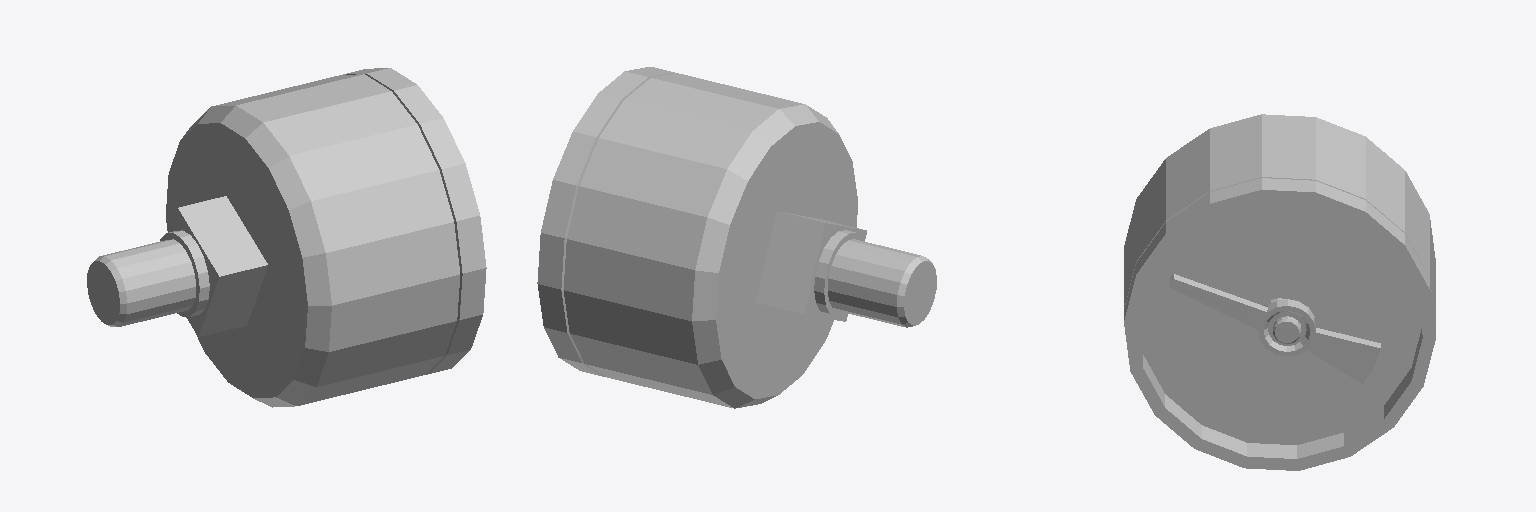
File: Watch_1.obj
3 views of the same model, side by side, from view 1: azimuth 30°, elevation 25°; view 2: azimuth 150°, elevation 25°; view 3: azimuth 270°, elevation 25° (orthographic).
Parts seen in each view (by area): view 1: Watch_Group61659; view 2: Watch_Group61659; view 3: Watch_Group61659, Watch_Group61660.
Part boxes in pixels (x1,y1,x2,y2): Watch_Group61659: (87, 68, 486, 407); Watch_Group61659: (537, 67, 936, 408); Watch_Group61659: (1124, 114, 1435, 470); Watch_Group61660: (1169, 274, 1380, 383).
Size of the model in its own units: 0.9666 by 0.8522 by 0.8569.